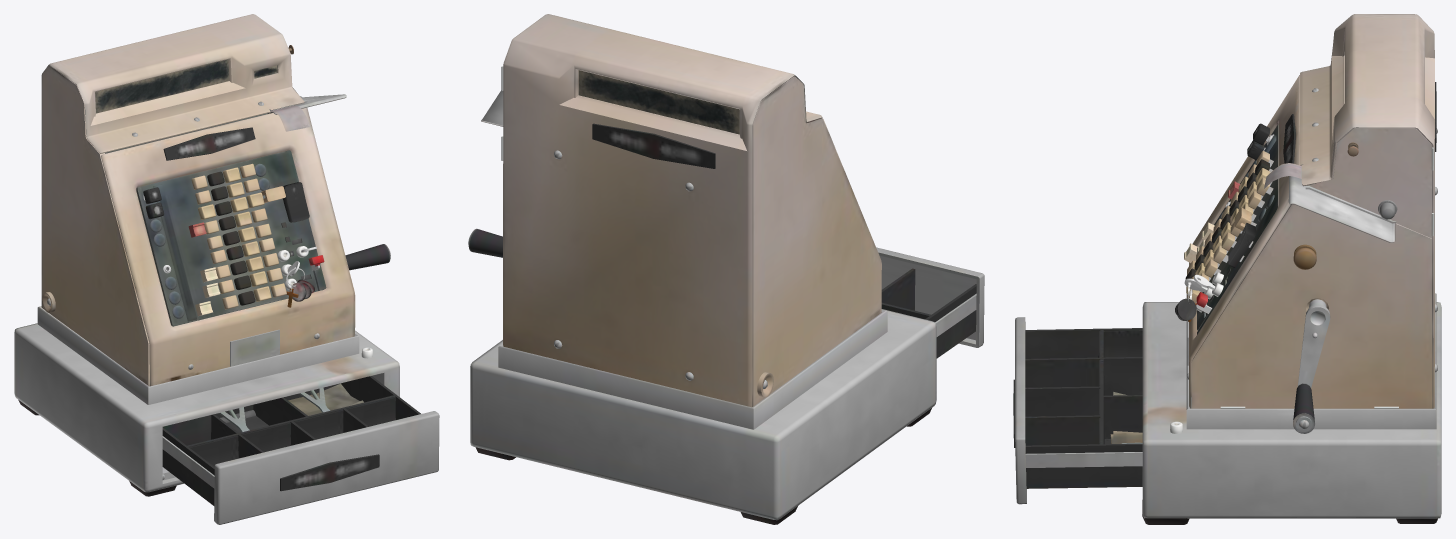
Rendered from CashRegister_01.gltf.
The picture shows the model from 3 angles, left to right: view 1: azimuth 30°, elevation 25°; view 2: azimuth 150°, elevation 25°; view 3: azimuth 270°, elevation 25°; orthographic projection. The views are drawn at different scales.
Parts seen in each view (by area): view 1: CashRegister_01_body, CashRegister_011_drawer; view 2: CashRegister_01_body, CashRegister_011_drawer; view 3: CashRegister_01_body, CashRegister_011_drawer.
Boxes of the visible parts, x1,y1,x2,y2 form: CashRegister_01_body: [14, 14, 399, 496]; CashRegister_011_drawer: [162, 376, 439, 524]; CashRegister_01_body: [468, 14, 936, 524]; CashRegister_011_drawer: [876, 247, 984, 358]; CashRegister_01_body: [1142, 14, 1441, 524]; CashRegister_011_drawer: [1013, 317, 1142, 504].
Bounding box in the file's own units: 0.6005 × 0.6214 × 0.6242.
2 materials, 2 textured.
